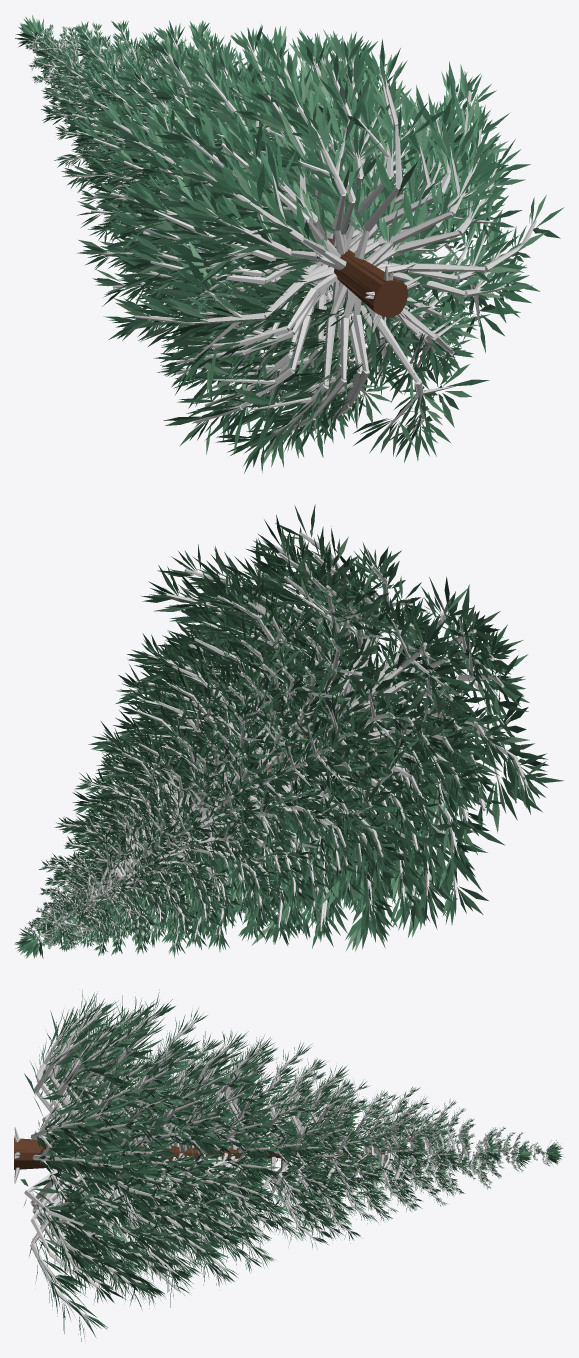
Rendered from Tree_Pine_OldGrowth.fbx.
3 views of the same model, one above another, from view 1: azimuth 30°, elevation 25°; view 2: azimuth 150°, elevation 25°; view 3: azimuth 270°, elevation 25° (orthographic). The views are drawn at different scales.
Visible parts, largest first — view 1: Tree_Pine_OldGrowth_LOD0_Foliage, Tree_Pine_OldGrowth_LOD1_Foliage, Tree_Pine_OldGrowth_LOD0_Branches, Tree_Pine_OldGrowth_LOD1_Branches, Tree_Pine_OldGrowth_LOD2_Foliage, Tree_Pine_OldGrowth_LOD2_Branches, Tree_Pine_OldGrowth_LOD0_Wood, Tree_Pine_OldGrowth_LOD1_Wood; view 2: Tree_Pine_OldGrowth_LOD0_Foliage, Tree_Pine_OldGrowth_LOD1_Foliage, Tree_Pine_OldGrowth_LOD0_Branches, Tree_Pine_OldGrowth_LOD1_Branches, Tree_Pine_OldGrowth_LOD2_Foliage, Tree_Pine_OldGrowth_LOD2_Branches; view 3: Tree_Pine_OldGrowth_LOD0_Foliage, Tree_Pine_OldGrowth_LOD0_Branches, Tree_Pine_OldGrowth_LOD1_Foliage, Tree_Pine_OldGrowth_LOD1_Branches, Tree_Pine_OldGrowth_LOD2_Foliage, Tree_Pine_OldGrowth_LOD2_Branches, Tree_Pine_OldGrowth_LOD0_Wood.
Part boxes in pixels (left/top/right/bottom): Tree_Pine_OldGrowth_LOD0_Foliage: left=15, top=15, right=540, bottom=473; Tree_Pine_OldGrowth_LOD1_Foliage: left=31, top=35, right=524, bottom=454; Tree_Pine_OldGrowth_LOD0_Branches: left=28, top=26, right=504, bottom=446; Tree_Pine_OldGrowth_LOD1_Branches: left=41, top=38, right=500, bottom=423; Tree_Pine_OldGrowth_LOD2_Foliage: left=59, top=33, right=564, bottom=453; Tree_Pine_OldGrowth_LOD2_Branches: left=79, top=51, right=536, bottom=434; Tree_Pine_OldGrowth_LOD0_Wood: left=328, top=238, right=408, bottom=317; Tree_Pine_OldGrowth_LOD1_Wood: left=321, top=251, right=407, bottom=316; Tree_Pine_OldGrowth_LOD0_Foliage: left=14, top=525, right=564, bottom=958; Tree_Pine_OldGrowth_LOD1_Foliage: left=35, top=515, right=528, bottom=951; Tree_Pine_OldGrowth_LOD0_Branches: left=25, top=552, right=528, bottom=951; Tree_Pine_OldGrowth_LOD1_Branches: left=44, top=545, right=504, bottom=943; Tree_Pine_OldGrowth_LOD2_Foliage: left=56, top=504, right=529, bottom=948; Tree_Pine_OldGrowth_LOD2_Branches: left=69, top=532, right=495, bottom=931; Tree_Pine_OldGrowth_LOD0_Foliage: left=29, top=990, right=564, bottom=1341; Tree_Pine_OldGrowth_LOD0_Branches: left=14, top=1009, right=550, bottom=1321; Tree_Pine_OldGrowth_LOD1_Foliage: left=48, top=1000, right=532, bottom=1304; Tree_Pine_OldGrowth_LOD1_Branches: left=14, top=1015, right=511, bottom=1293; Tree_Pine_OldGrowth_LOD2_Foliage: left=20, top=995, right=502, bottom=1307; Tree_Pine_OldGrowth_LOD2_Branches: left=14, top=1008, right=478, bottom=1291; Tree_Pine_OldGrowth_LOD0_Wood: left=14, top=1138, right=385, bottom=1169.
Bounding box in the file's own units: 1205 × 1098 × 1735.
